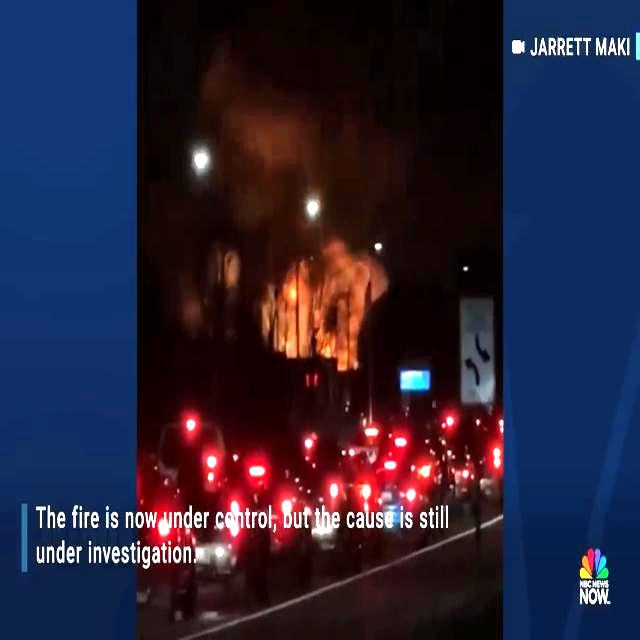fire: (284, 286, 356, 372)
